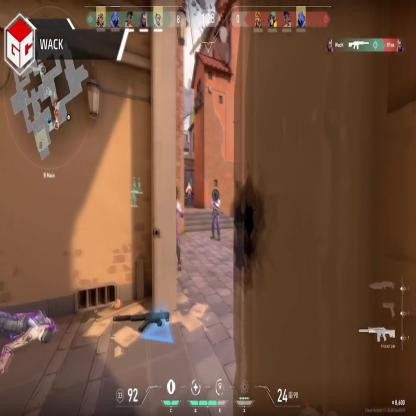enemy: (167, 182, 182, 272), (209, 189, 221, 240), (185, 181, 192, 208)
enemy_head: (169, 186, 177, 202), (212, 190, 218, 200), (188, 180, 190, 186)
